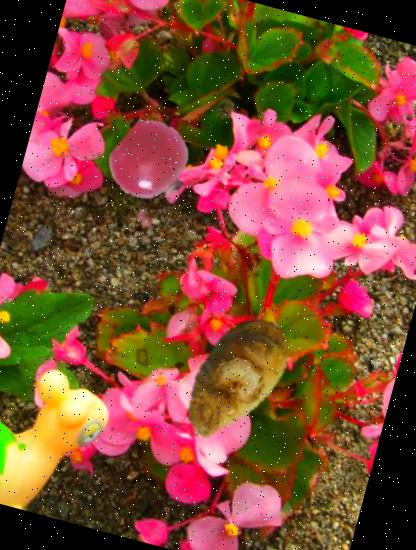Ginger: (152, 296, 320, 462)
Redcurrant: (103, 114, 201, 212)
